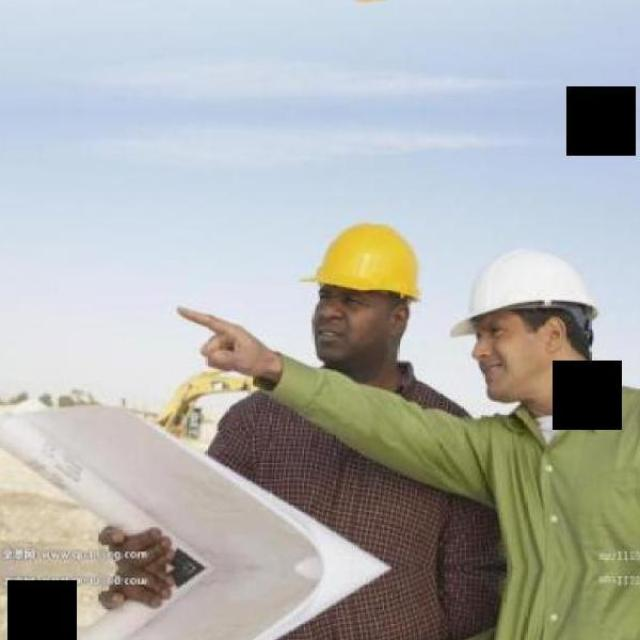white helmet: (455, 247, 600, 336)
yellow helmet: (307, 218, 426, 304)
